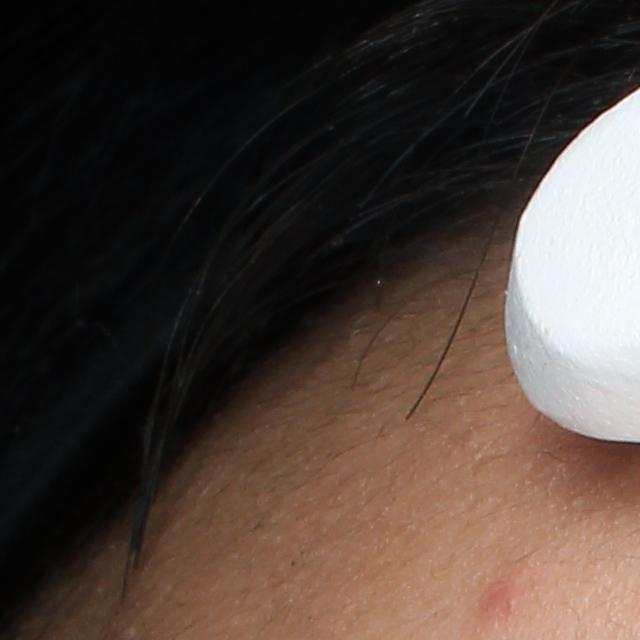papule: (477, 569, 534, 622)
